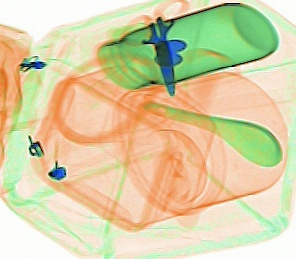scissors: (118, 1, 190, 96)
